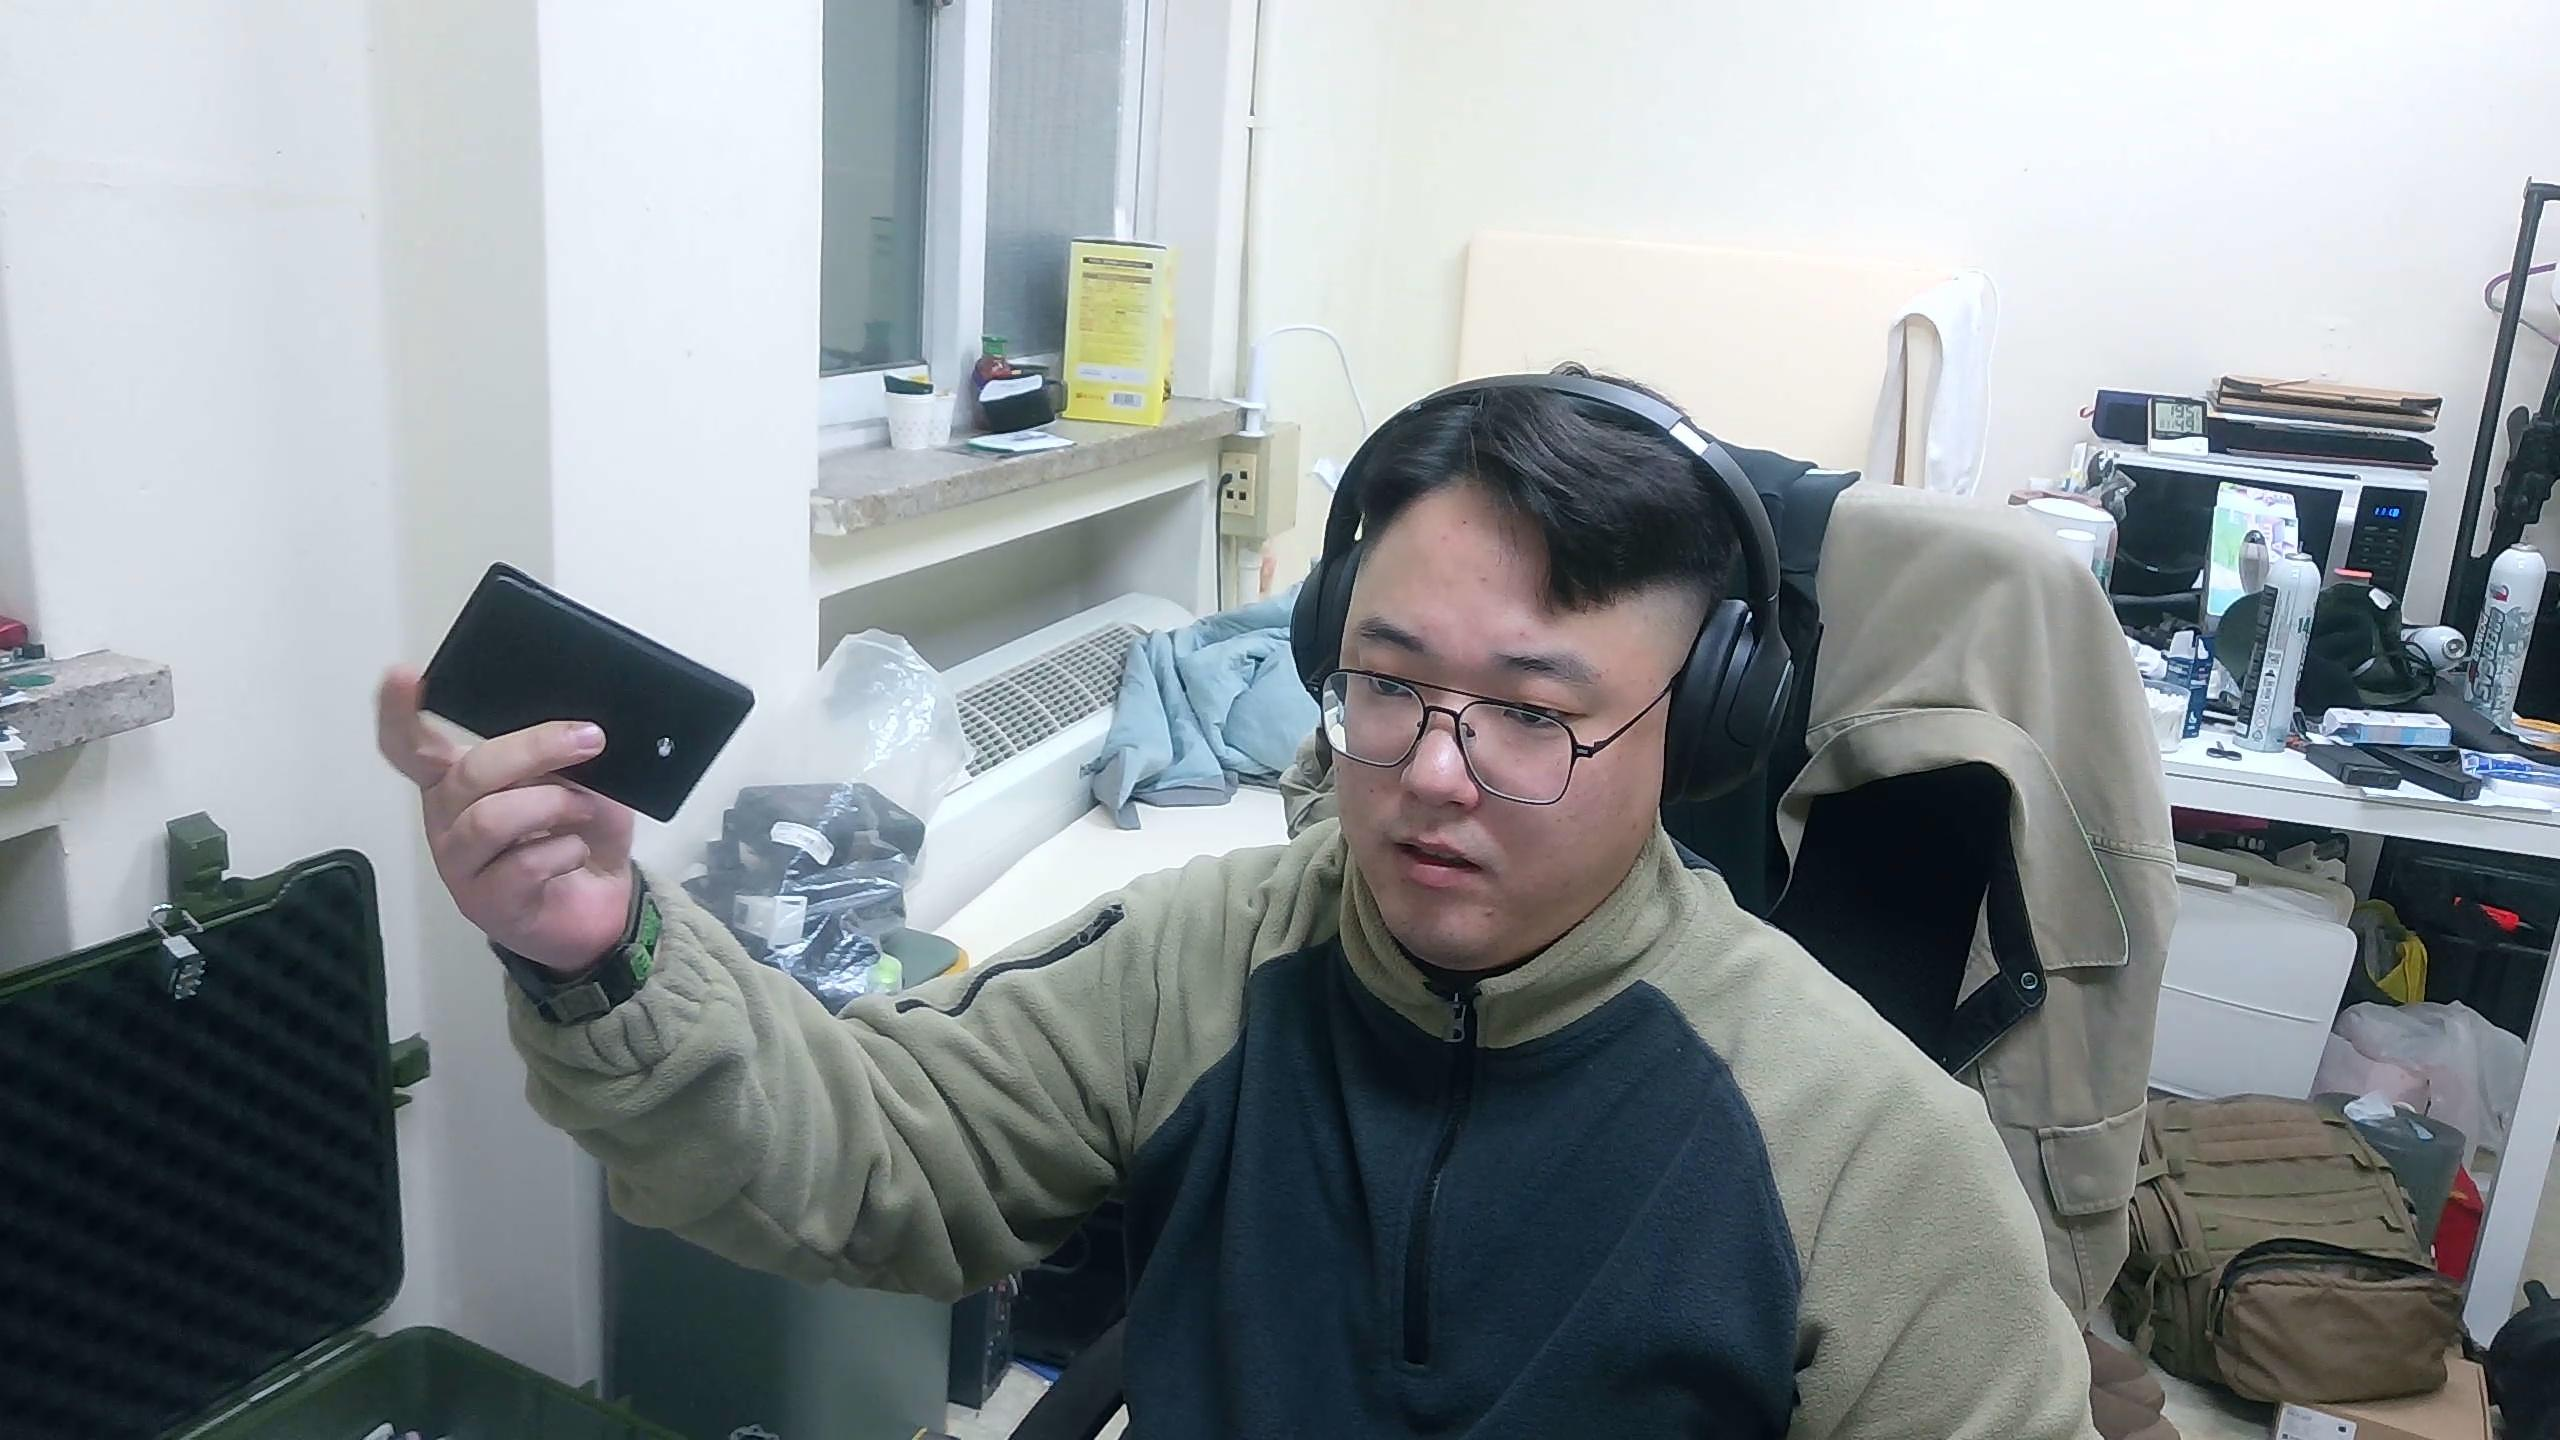earphone: (417, 557, 760, 826)
